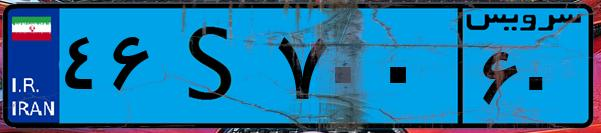0: (385, 28, 445, 110), (330, 28, 385, 110), (525, 38, 570, 115)
4: (57, 26, 110, 100)
6: (475, 38, 525, 113), (110, 28, 158, 98)
7: (270, 28, 330, 110)
S: (158, 12, 270, 120)
